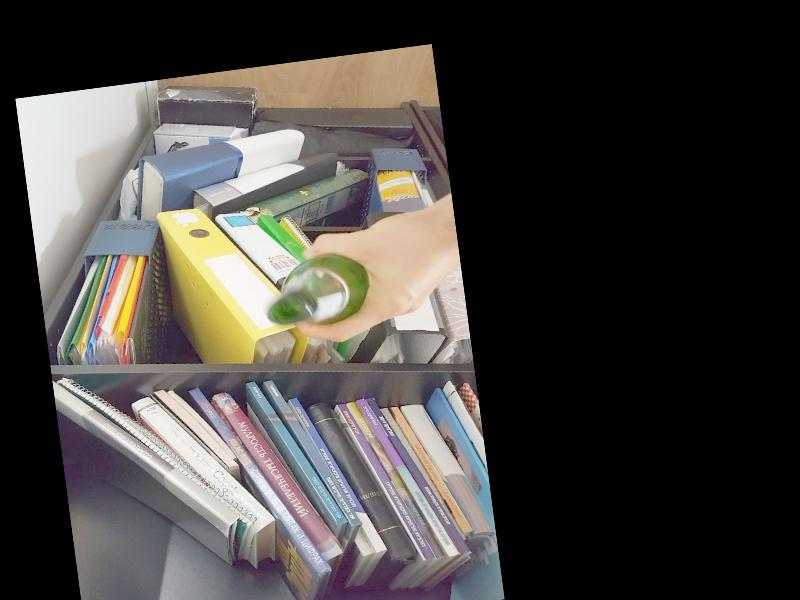Beer: (261, 249, 373, 330)
